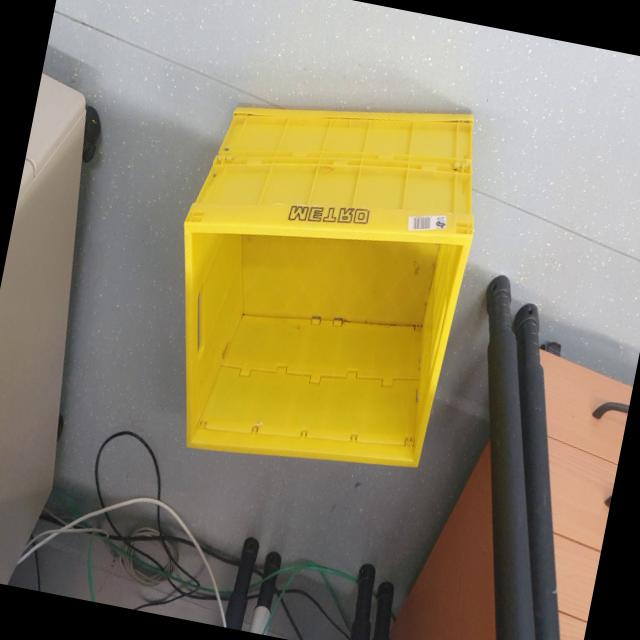box: (132, 50, 506, 520)
